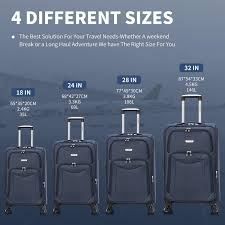suitcase: (159, 92, 222, 217), (104, 108, 158, 213), (50, 116, 101, 211), (1, 124, 49, 216)
